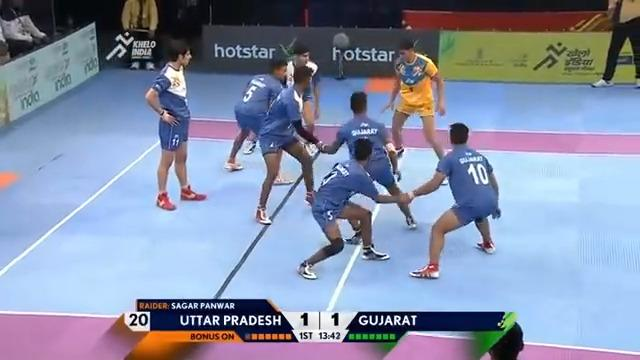Player: (296, 136, 416, 279), (400, 122, 501, 279), (254, 67, 323, 225), (144, 39, 207, 210), (223, 53, 293, 182), (280, 41, 322, 150)
Raider: (380, 37, 447, 167)
referee: (590, 0, 639, 88), (120, 0, 159, 70)
